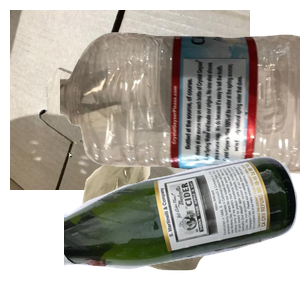cardboard: (10, 10, 250, 190)
glass: (64, 154, 300, 300)
plastic: (60, 30, 300, 196)
trash: (76, 124, 287, 300)
